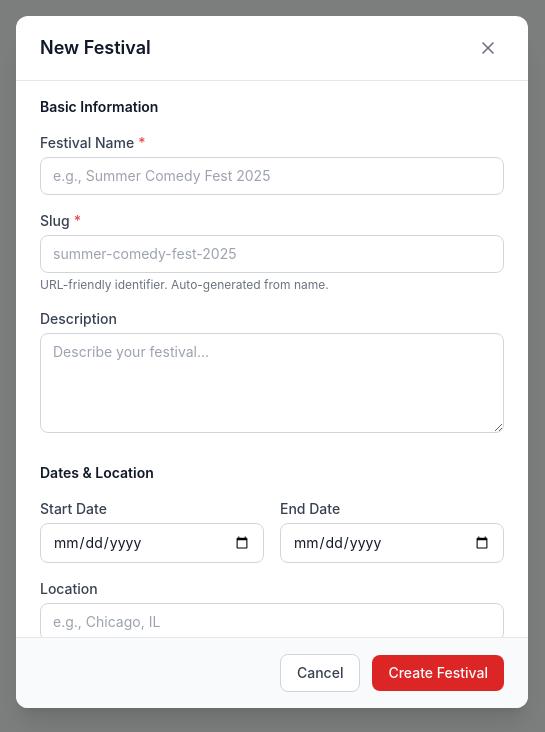
Scenario: FestivalForm › form validation › requires slug field
In the field with placeholder "e.g., Summer Comedy Fest 2025": coordinates (272, 176) 40,157 -> 504,195, type "Test"
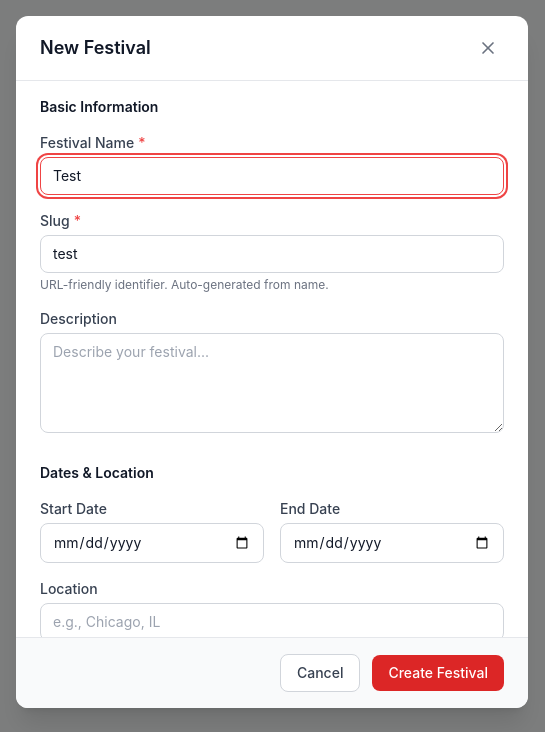
Clear the auto-generated slug
Clear the field with placeholder "summer-comedy-fest-2025": coordinates (272, 254) 40,235 -> 504,273
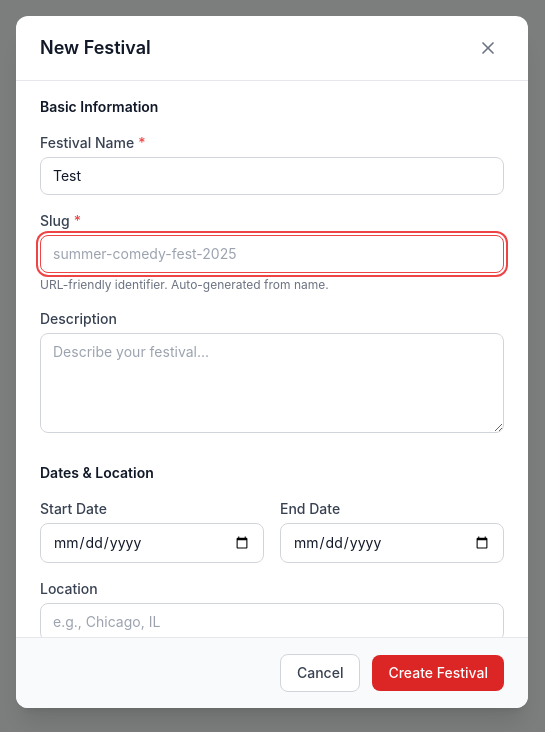
Click the button "Create Festival": coordinates (438, 673) 372,655 -> 504,691
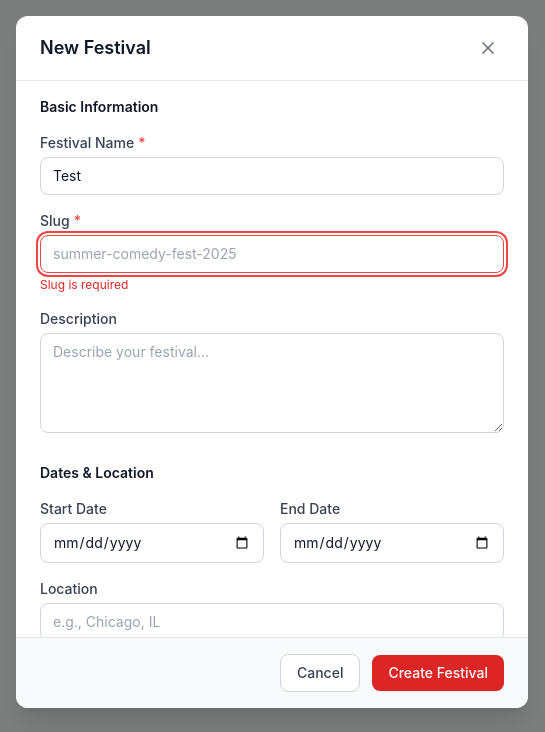
Expected: the text "Slug is required" is shown, 40,277 -> 128,292
